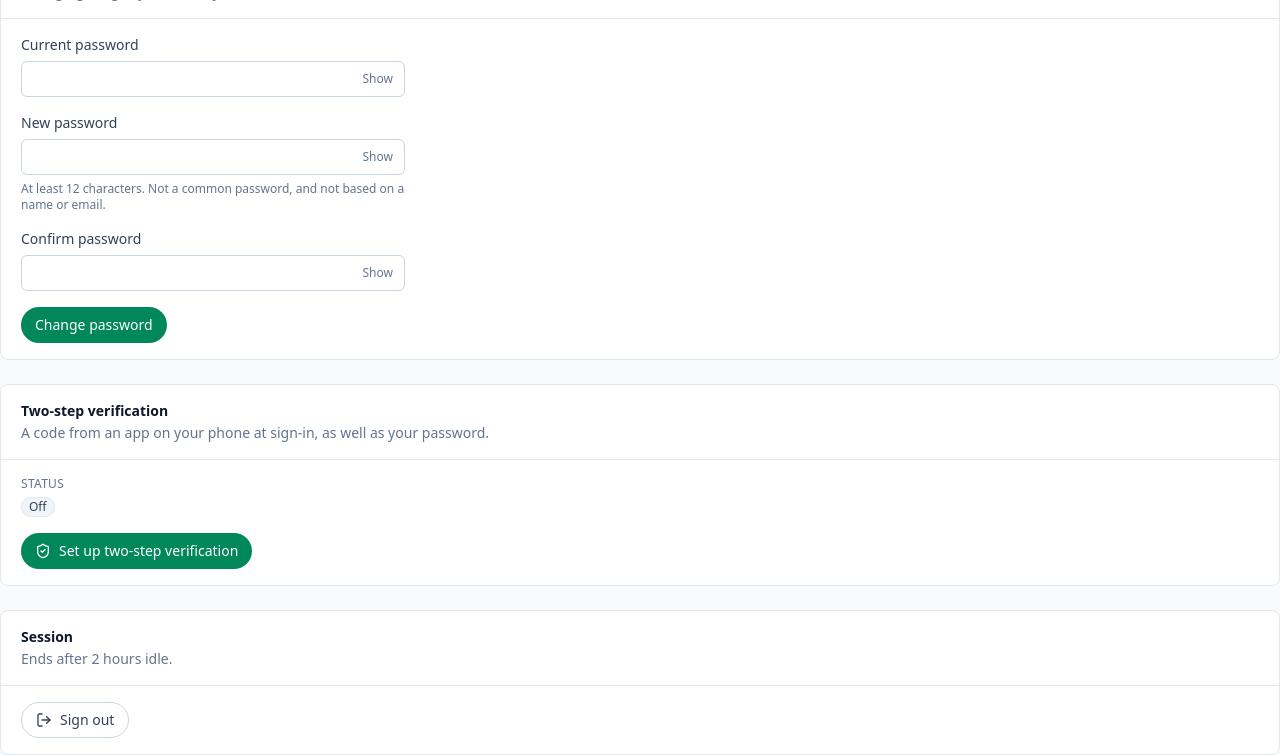
Test case: ProfilePage › stays put and explains if signing out fails
(page scrolled)
Click the button "Sign out" at point(75, 720), box [21,702,129,738]
(page scrolled)
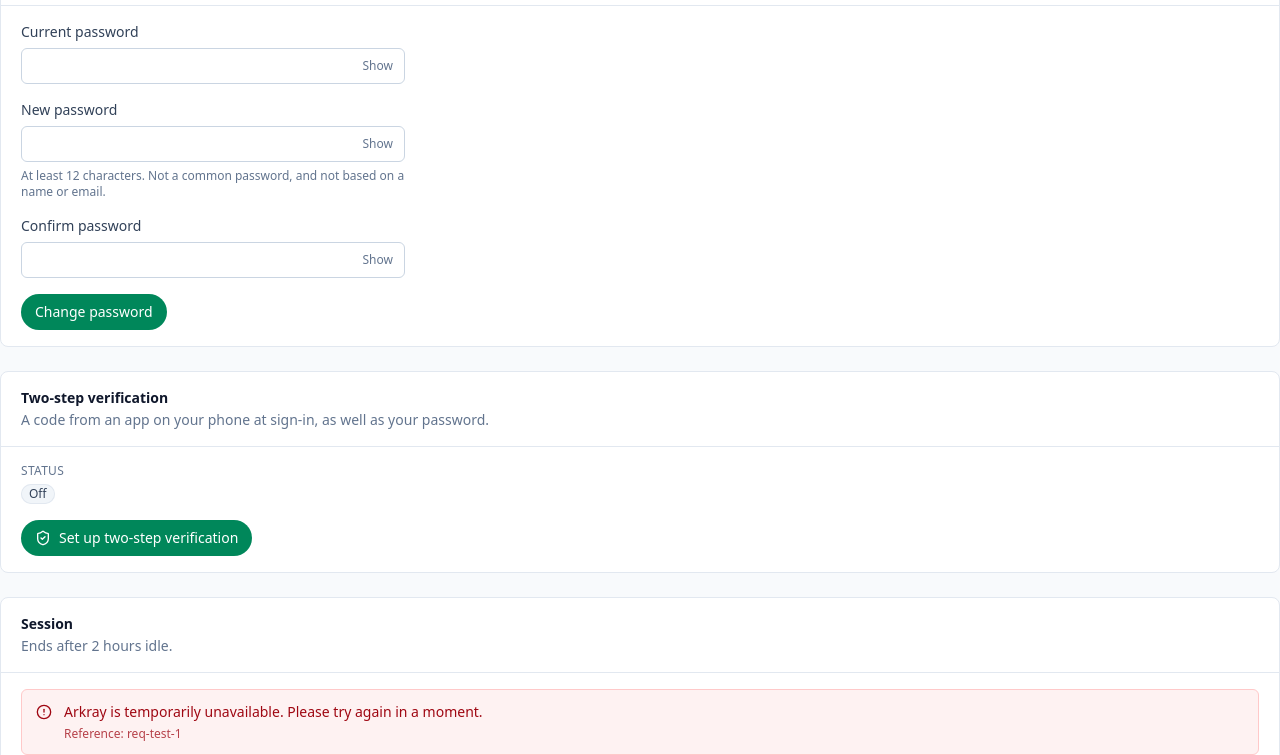
Check: the message shows "Arkray is temporarily unavailable", box [64,702,483,721]
